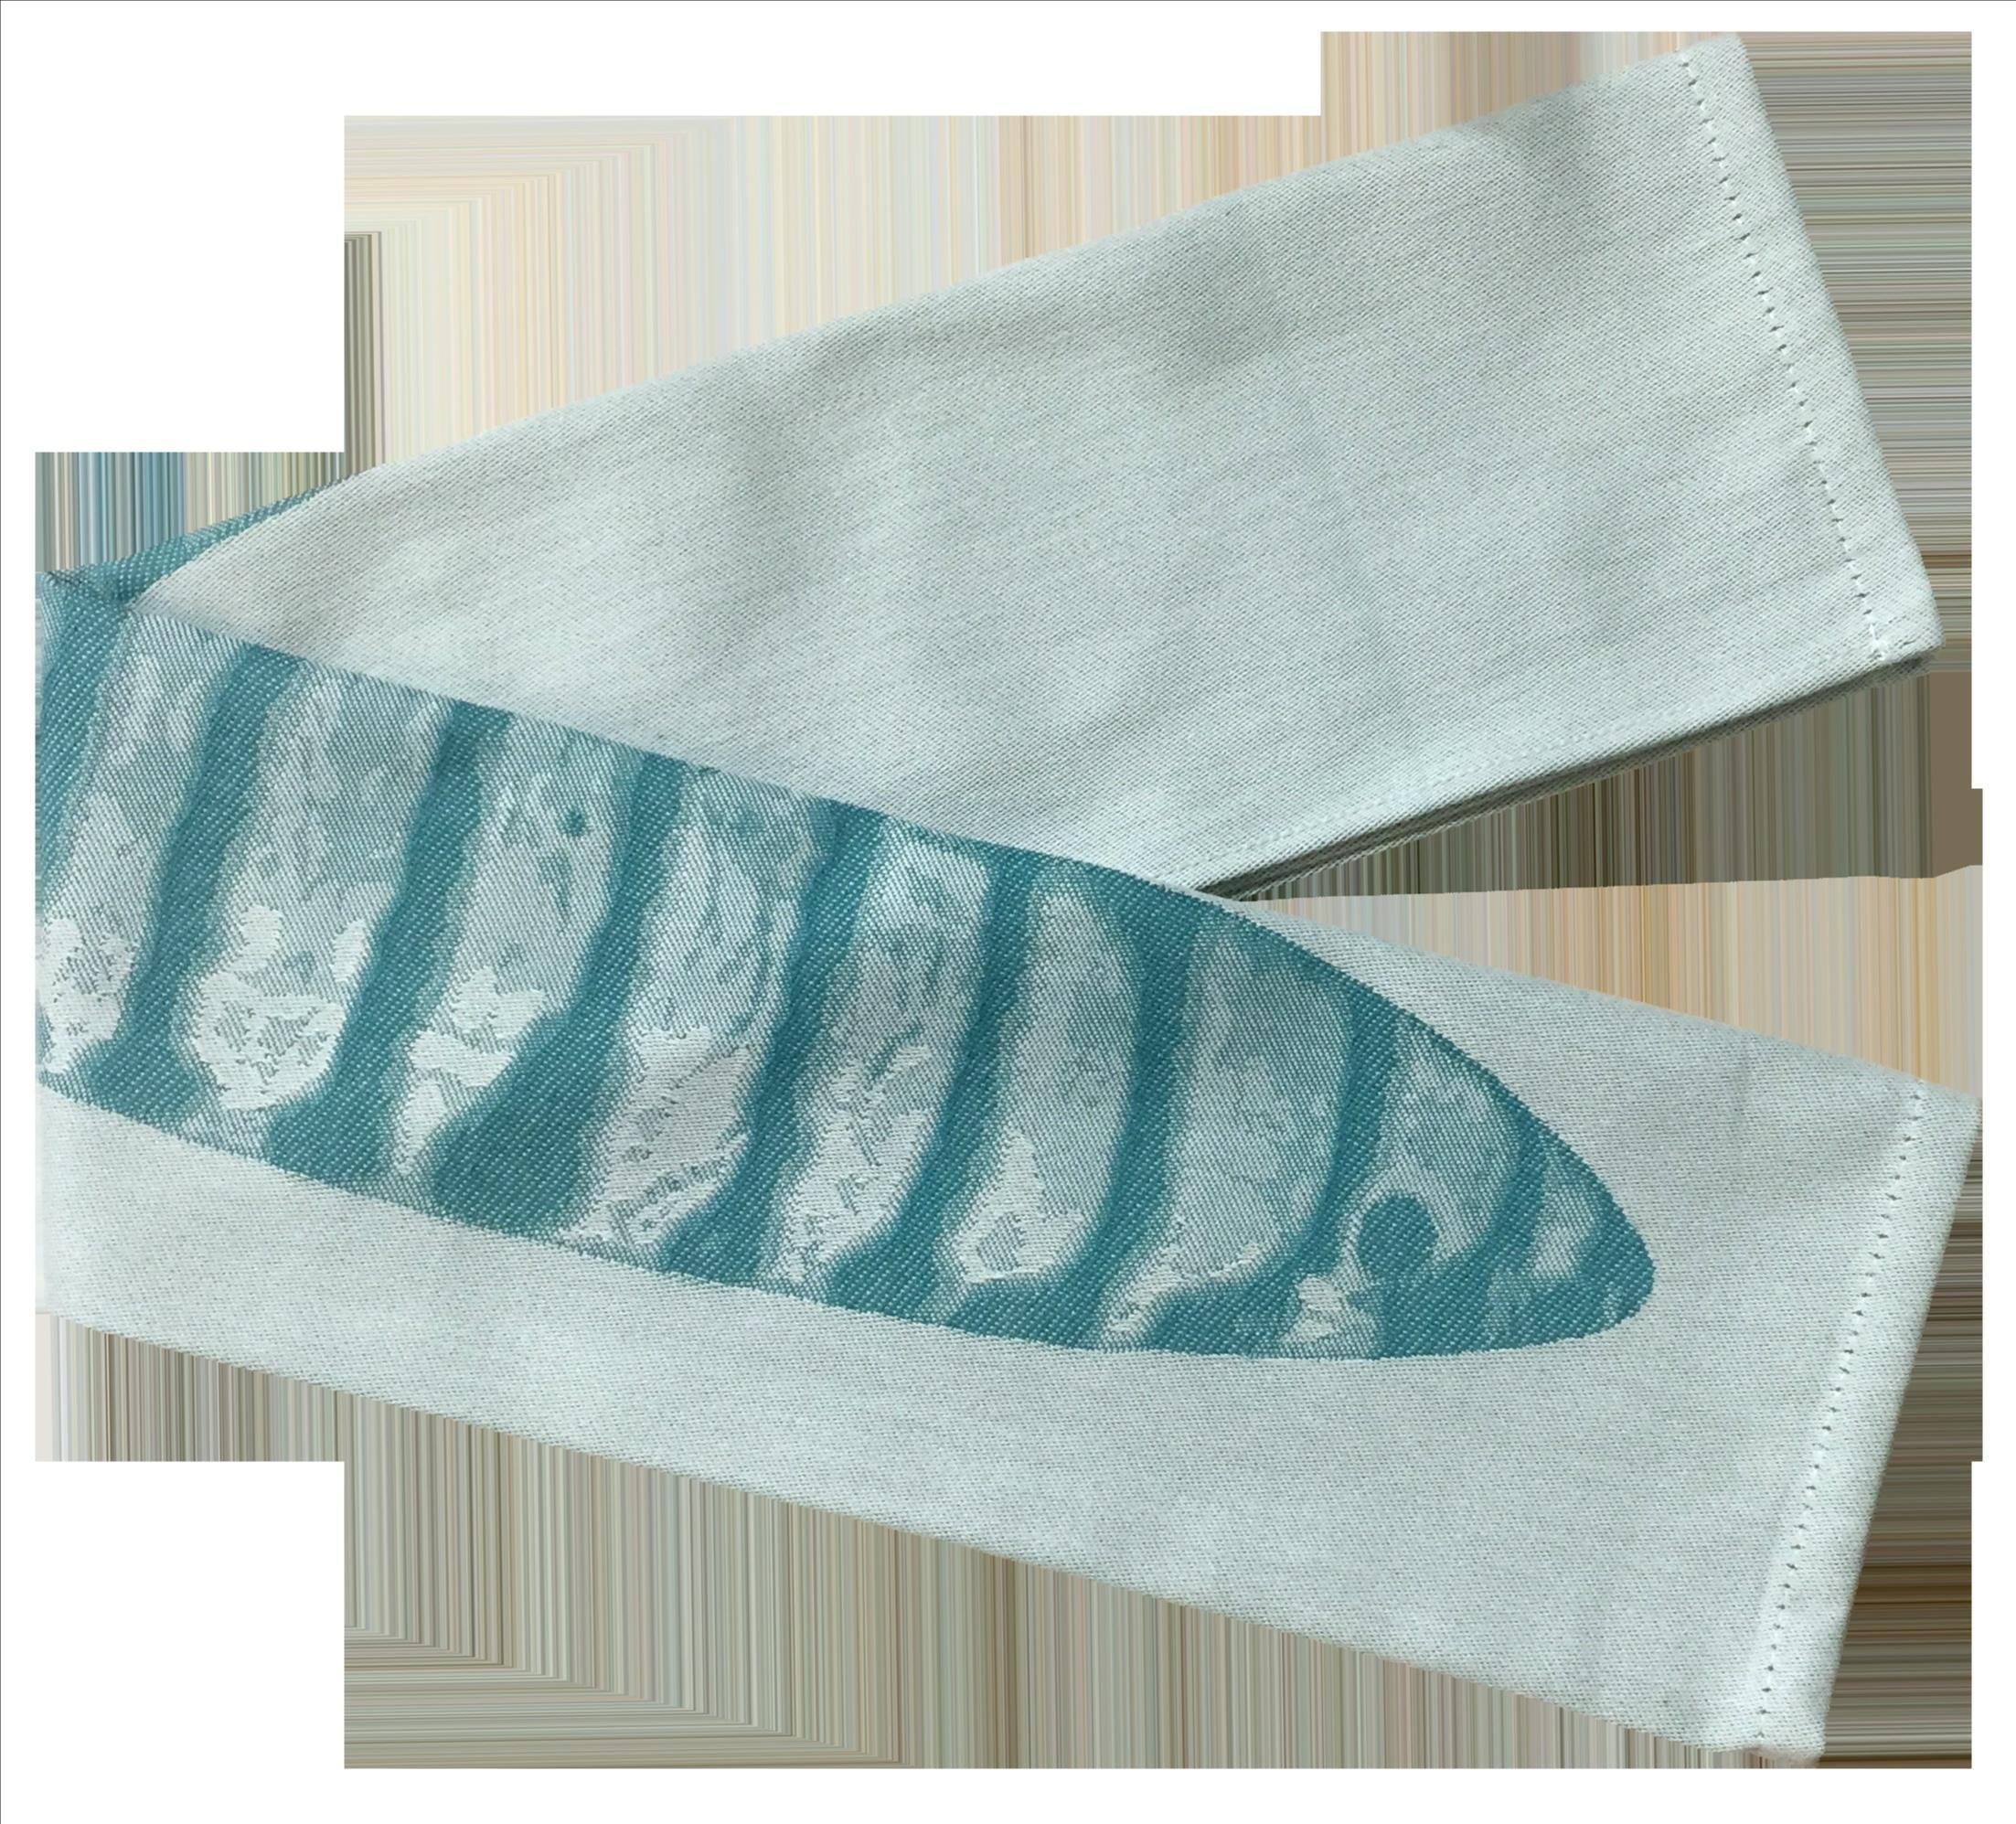towel: (32, 467, 1024, 1462)
